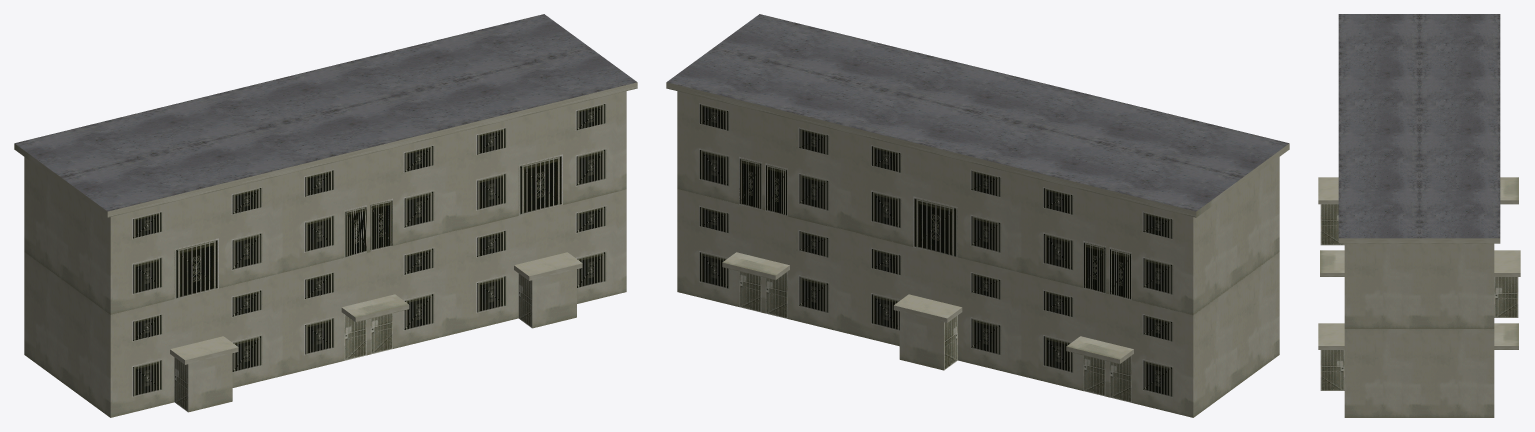
The model's file is las2xref01_lax.obj.
The picture shows the model from 3 angles, left to right: view 1: azimuth 30°, elevation 25°; view 2: azimuth 150°, elevation 25°; view 3: azimuth 270°, elevation 25°; orthographic projection. The views are drawn at different scales.
Parts seen in each view (by area): view 1: LAs2Xref01_LAx; view 2: LAs2Xref01_LAx; view 3: LAs2Xref01_LAx.
Boxes of the visible parts, <box> form: LAs2Xref01_LAx: <box>14,14,637,417</box>; LAs2Xref01_LAx: <box>666,14,1289,417</box>; LAs2Xref01_LAx: <box>1318,14,1520,417</box>.
Bounding box in the file's own units: 23.82 × 9.04 × 9.07.
